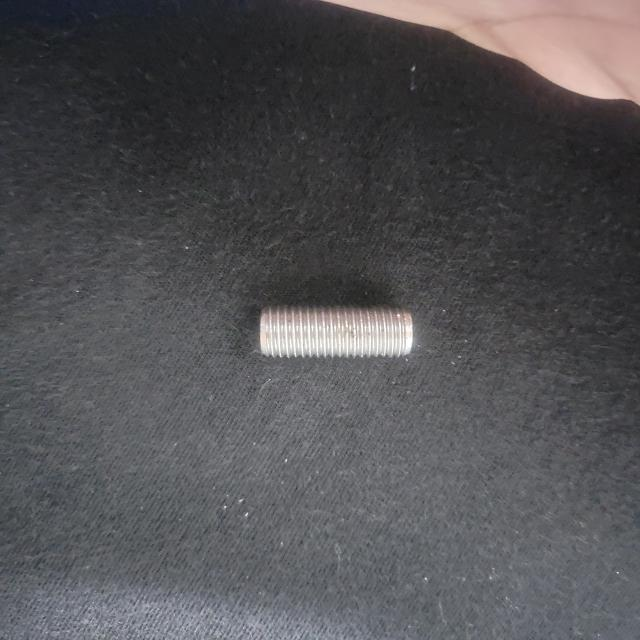Normal: (257, 300, 414, 361)
